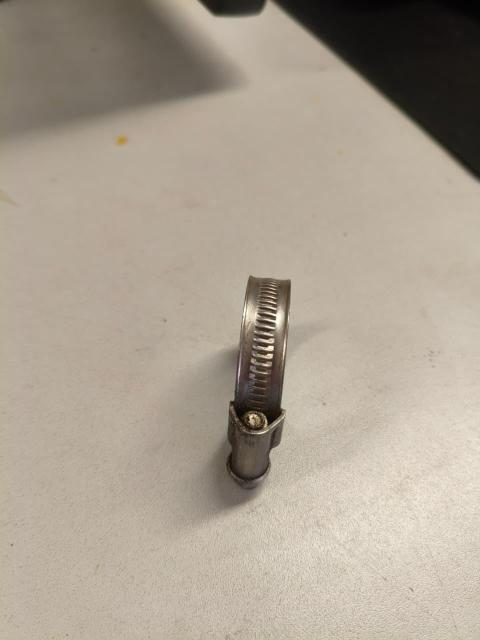Metal: (226, 275, 293, 489)
